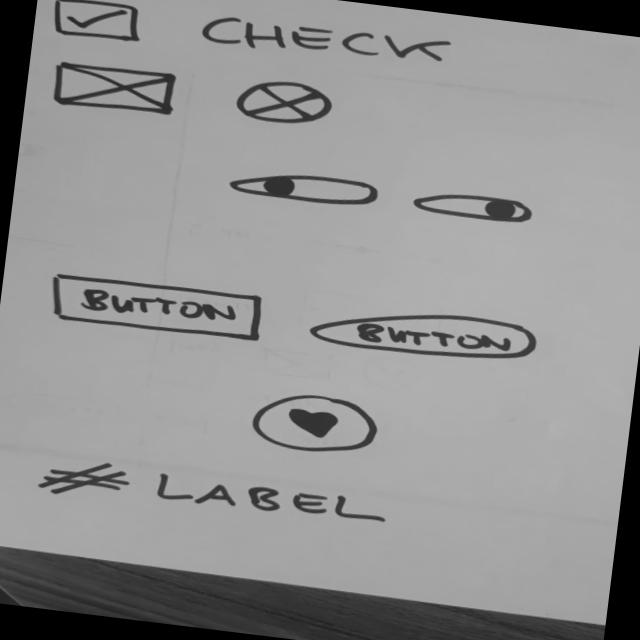button: (305, 296, 545, 374), (43, 268, 269, 348)
checkbox: (44, 1, 456, 84)
icon-button: (243, 385, 388, 465)
image: (46, 55, 188, 125), (231, 75, 337, 133)
label: (32, 451, 399, 541)
toggle: (222, 162, 386, 215), (408, 186, 538, 230)
